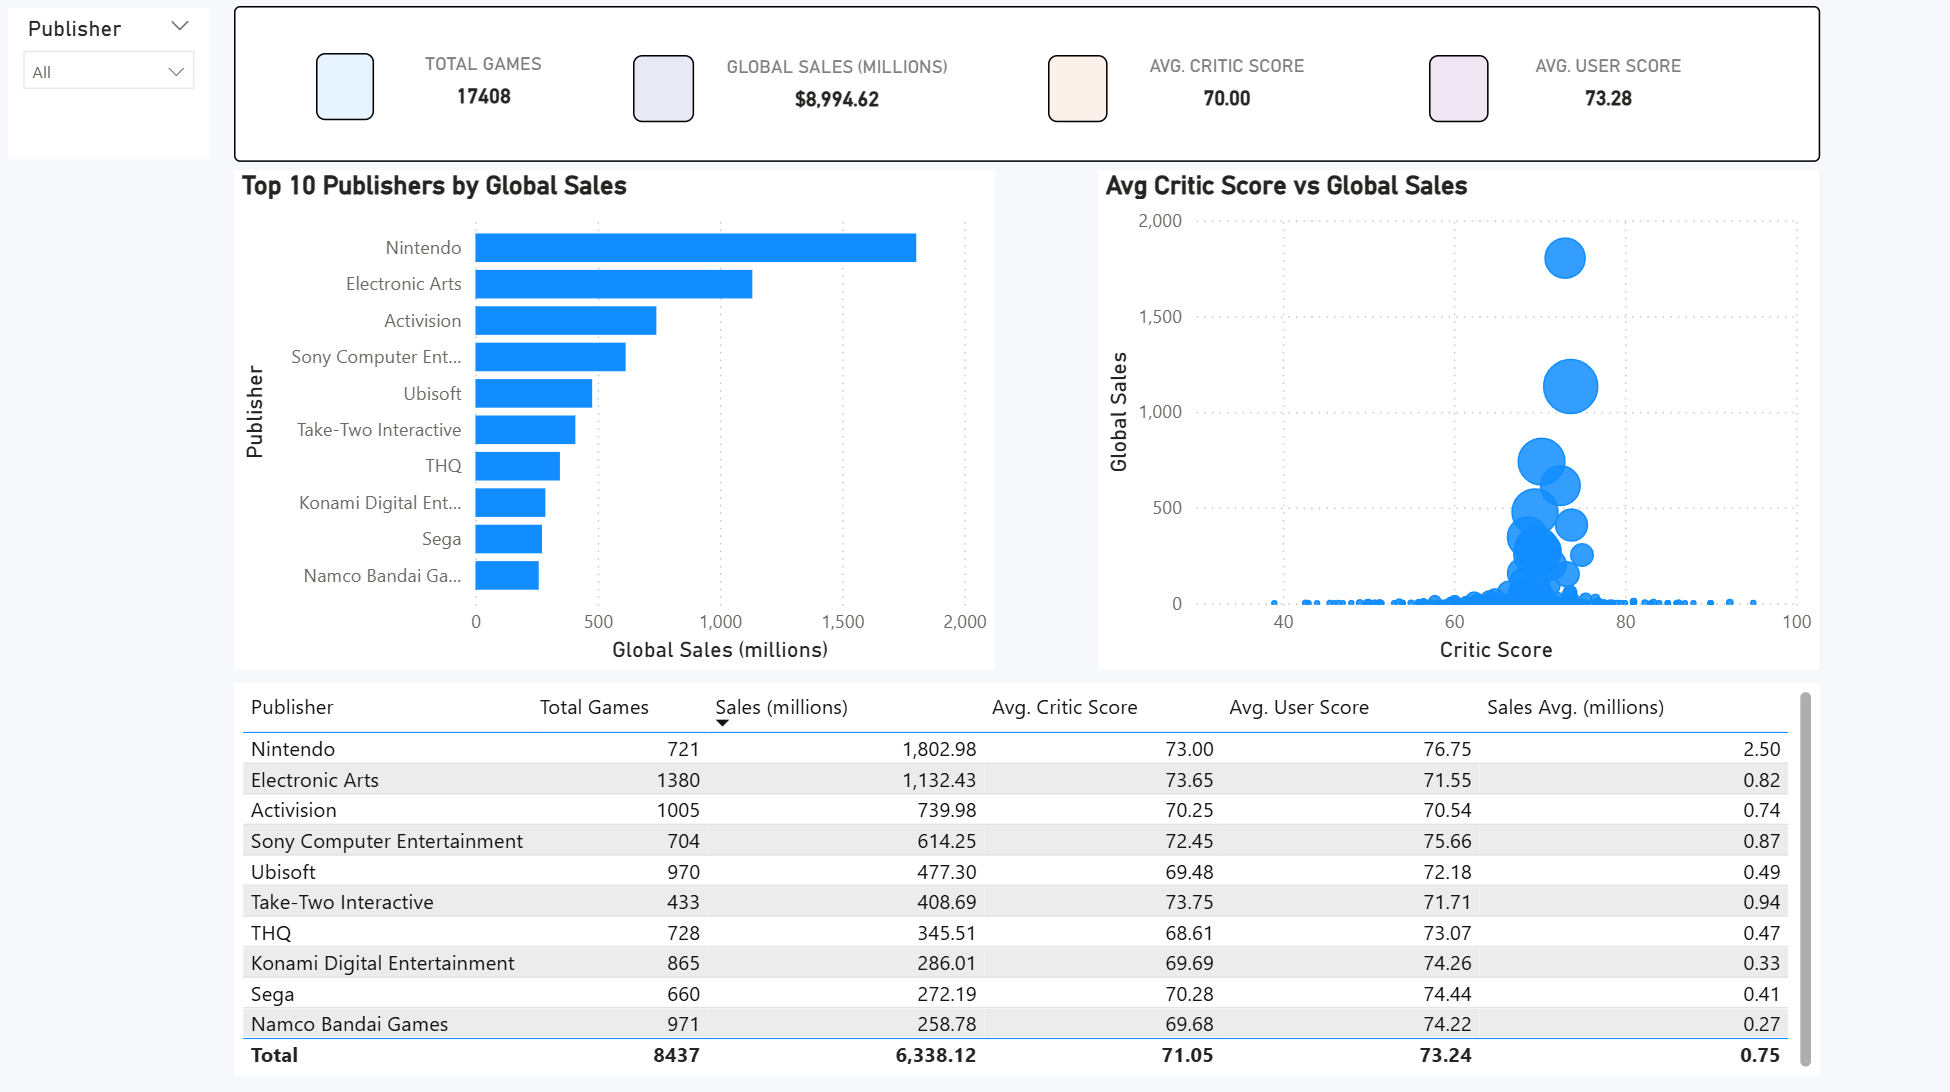

This screenshot's page, from the dashboard's own definition file:
{"tool":"powerbi","page":{"name":"Publisher Dashboard","canvas":[1280,720],"ordinal":3},"visuals":[{"type":"barChart","title":"Top 10 Publishers by Global Sales","fields":{"Category":["vgames_cleaned.Publisher"],"Y":["Sum(vgames_cleaned.Global_Sales)"]},"box":[155.1,115.2,498,326.5],"z":0},{"type":"scatterChart","title":"Avg Critic Score vs Global Sales","fields":{"X":["vgames_cleaned.Average Critic Score"],"Y":["Sum(vgames_cleaned.Global_Sales)"],"Category":["vgames_cleaned.Publisher"],"Size":["vgames_cleaned.Total Games"]},"box":[720.5,115.2,471.8,326.5],"z":1000},{"type":"tableEx","fields":{"Values":["vgames_cleaned.Publisher","vgames_cleaned.Total Games","Sum(vgames_cleaned.Global_Sales)","vgames_cleaned.Average Critic Score","vgames_cleaned.Average User Score","Avg(vgames_cleaned.Global_Sales)"]},"box":[155.1,450.9,1037.9,256.5],"z":2000},{"type":"slicer","fields":{"Values":["vgames_cleaned.Publisher"]},"box":[7.2,9.2,131.5,99.5],"z":10000},{"type":"basicShape","box":[155,8,1037.7,101.7],"z":10001},{"type":"card","title":"GLOBAL SALES (MILLIONS)","fields":{"Values":["Sum(vgames_cleaned.Global_Sales)"]},"box":[456.8,40.6,185.8,45.2],"z":10002},{"type":"card","title":"AVG. CRITIC SCORE","fields":{"Values":["vgames_cleaned.Average Critic Score"]},"box":[727,39.9,155.7,45.8],"z":10003},{"type":"card","title":"AVG. USER SCORE","fields":{"Values":["vgames_cleaned.Average User Score"]},"box":[976.4,39.9,156.4,45.8],"z":10004},{"type":"card","title":"TOTAL GAMES","fields":{"Values":["vgames_cleaned.Total Games"]},"box":[246.7,38.6,143.3,45.2],"z":10005},{"type":"basicShape","box":[208.8,38.6,38,44.5],"z":10006},{"type":"basicShape","box":[416,40,39.9,44.5],"z":10007},{"type":"basicShape","box":[688,40,39.3,44],"z":10008},{"type":"basicShape","box":[937,40,39.3,44.5],"z":10009}]}

Visuals, with their boxes in screenshot pixels (x1, y1, x2, y2), scaled from the page's 1280x720 canvas onto the 1950x1092 screenshot:
"Top 10 Publishers by Global Sales" barChart: [left=236, top=175, right=995, bottom=670]
"Avg Critic Score vs Global Sales" scatterChart: [left=1098, top=175, right=1816, bottom=670]
tableEx - vgames_cleaned.Publisher x vgames_cleaned.Total Games: [left=236, top=684, right=1817, bottom=1073]
slicer - vgames_cleaned.Publisher: [left=11, top=14, right=211, bottom=165]
basicShape: [left=236, top=12, right=1817, bottom=166]
"GLOBAL SALES (MILLIONS)" card: [left=696, top=62, right=979, bottom=130]
"AVG. CRITIC SCORE" card: [left=1108, top=61, right=1345, bottom=130]
"AVG. USER SCORE" card: [left=1487, top=61, right=1726, bottom=130]
"TOTAL GAMES" card: [left=376, top=59, right=594, bottom=127]
basicShape: [left=318, top=59, right=376, bottom=126]
basicShape: [left=634, top=61, right=695, bottom=128]
basicShape: [left=1048, top=61, right=1108, bottom=127]
basicShape: [left=1427, top=61, right=1487, bottom=128]
